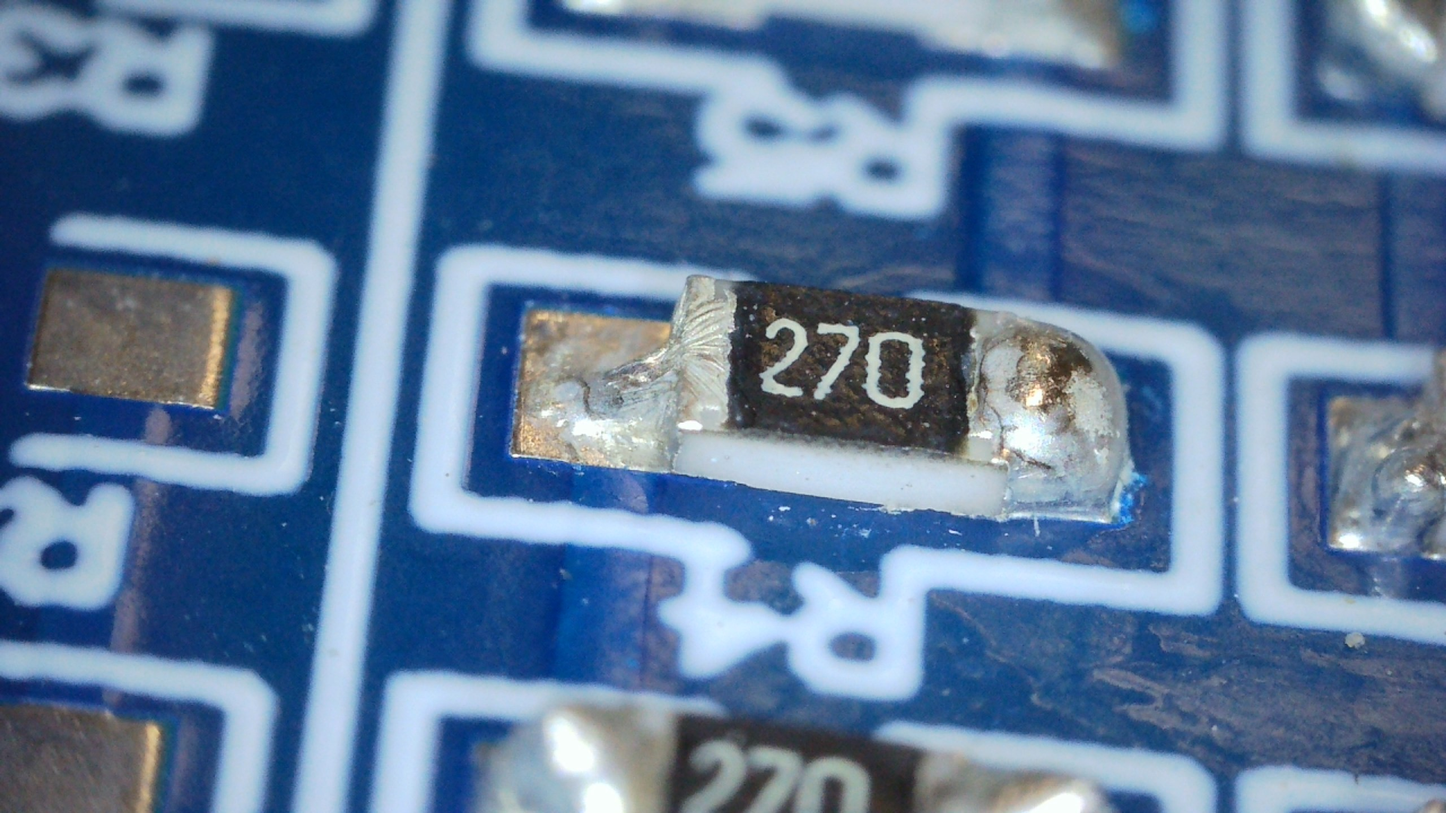NG: (967, 311, 1128, 522), (585, 277, 736, 470)
